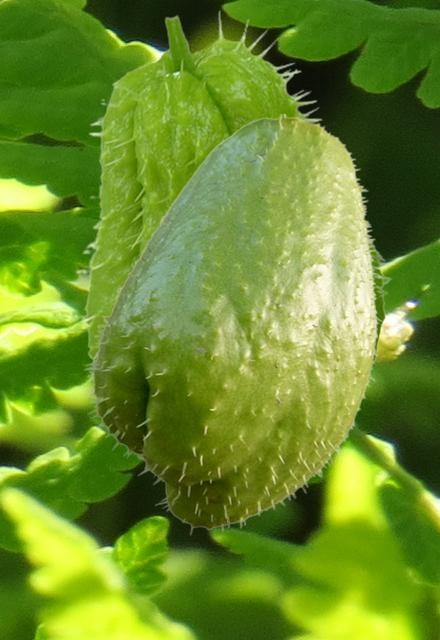sayote: (83, 114, 380, 534), (75, 9, 394, 363)
